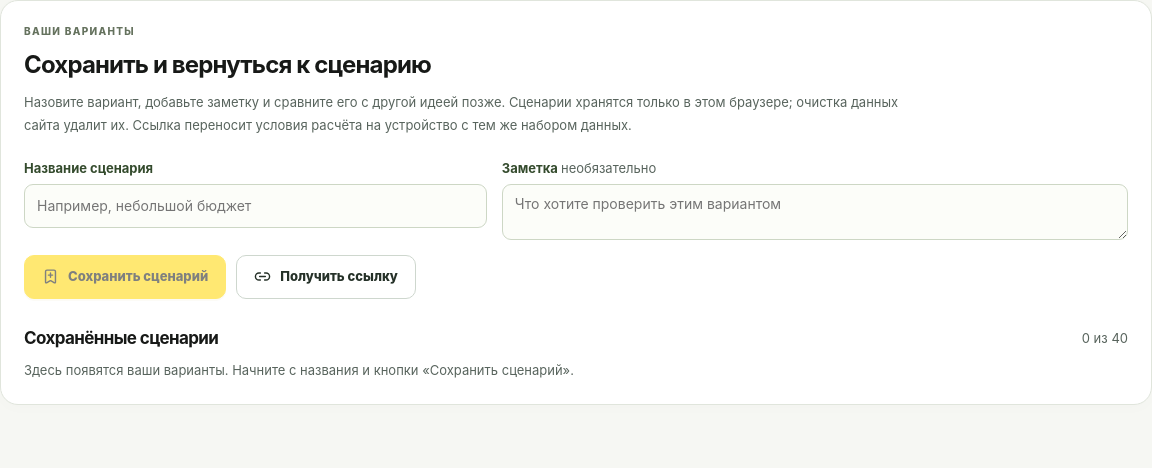
Test case: shared and saved calculator conditions › does not show a saved item or success when browser refuses the write
Type "Новый вариант" into the field labelled "Название сценария" at (255, 206), box [24, 184, 487, 228]
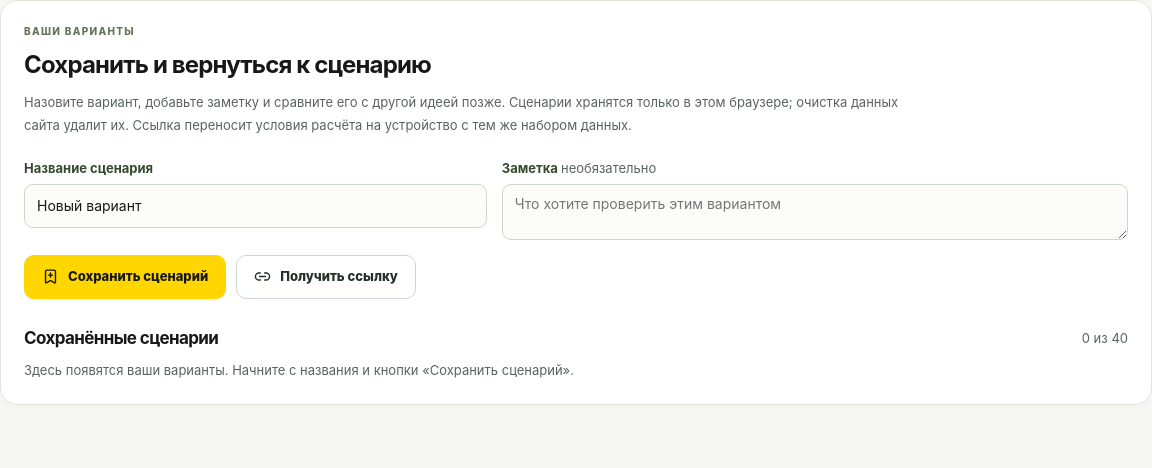
Click the button "Сохранить сценарий" at (125, 277), box [24, 255, 226, 299]
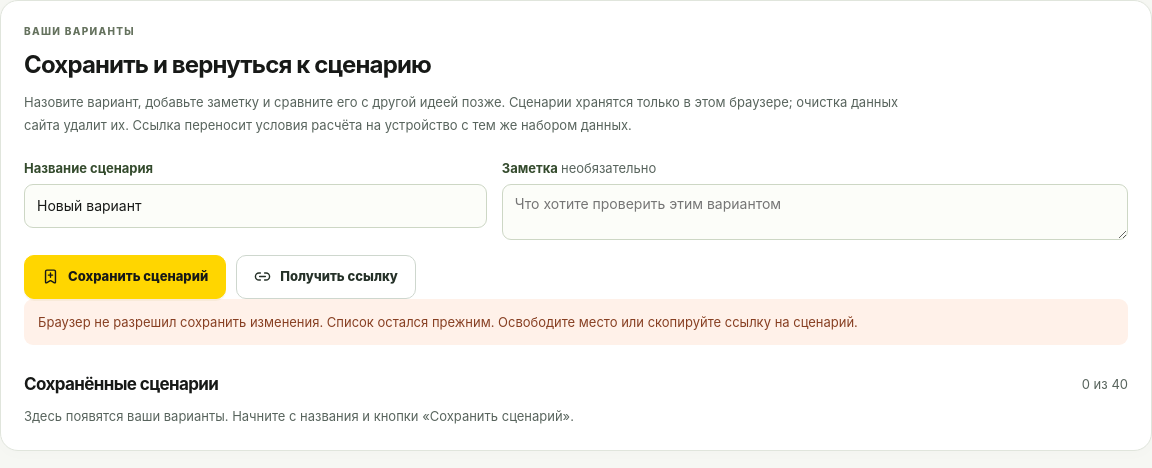
Check: the message shows "Список остался прежним", box [38, 314, 858, 330]
